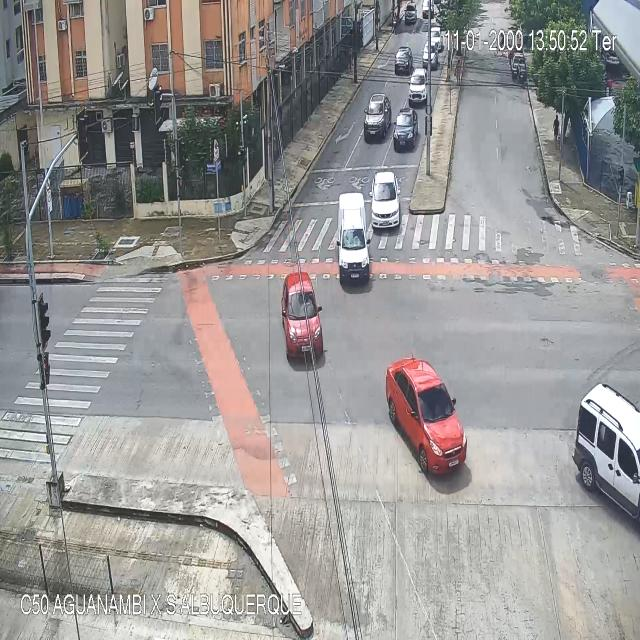Car: (385, 354, 466, 478), (573, 381, 640, 522), (282, 274, 324, 366), (336, 192, 372, 282), (371, 170, 401, 231), (363, 96, 391, 139), (395, 110, 418, 149), (407, 68, 426, 107), (394, 41, 411, 73), (423, 42, 440, 71), (427, 25, 442, 48), (511, 53, 526, 76), (406, 2, 418, 23)
Motorcycle: (517, 62, 522, 81)
